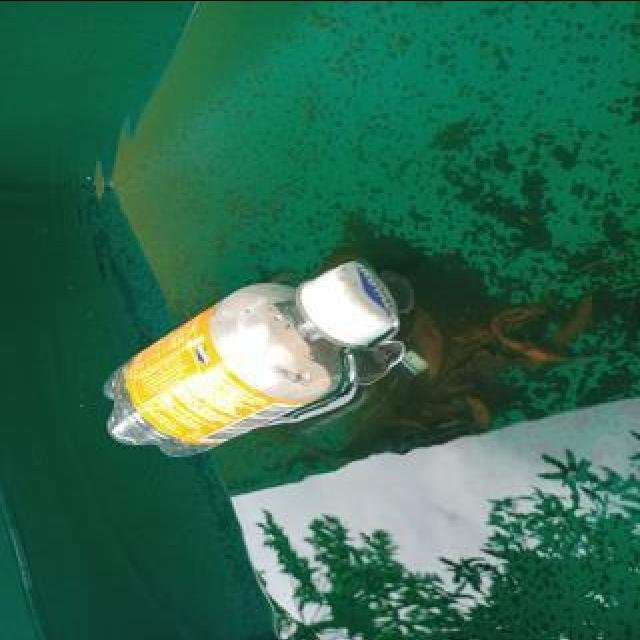Bottle: (103, 257, 402, 459)
